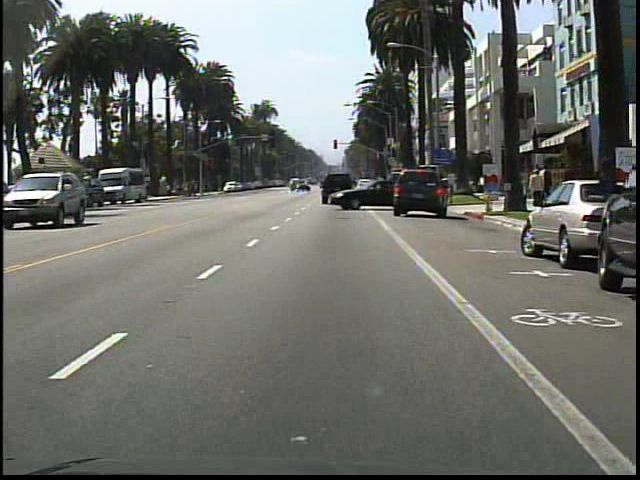person: (539, 160, 555, 208), (371, 169, 388, 206), (529, 167, 544, 205)
